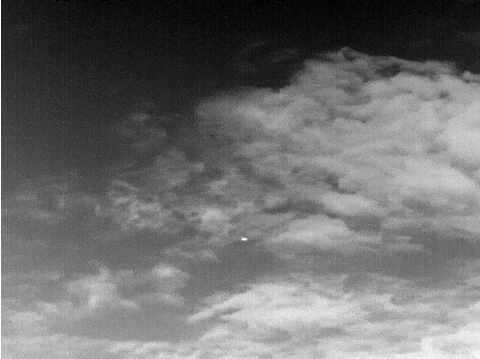dim target: (240, 236, 247, 242)
